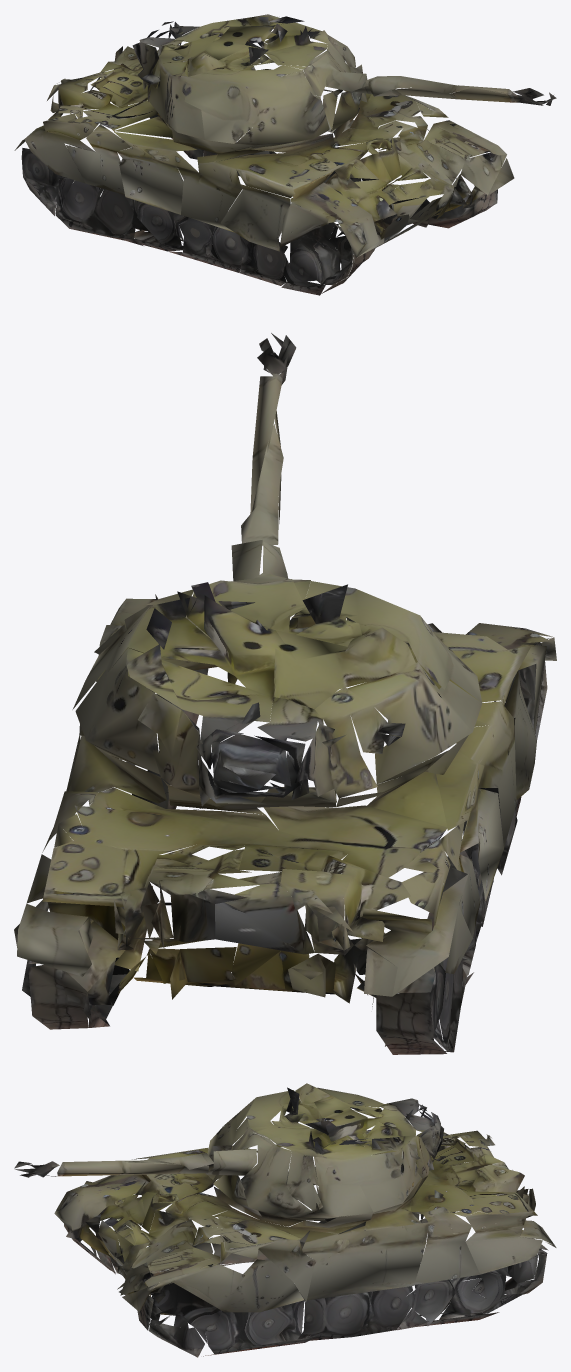
The model's file is tank_lod1.glb.
3 views of the same model, one above another, from view 1: azimuth 30°, elevation 25°; view 2: azimuth 150°, elevation 25°; view 3: azimuth 270°, elevation 25° (orthographic). The views are drawn at different scales.
Visible parts, largest first — view 1: body, turret; view 2: body, turret; view 3: body, turret.
Boxes of the visible parts, bbox=[...] form: body: bbox=[14, 45, 514, 295]; turret: bbox=[132, 14, 556, 154]; body: bbox=[14, 594, 556, 1054]; turret: bbox=[72, 333, 482, 806]; body: bbox=[54, 1127, 556, 1357]; turret: bbox=[14, 1083, 443, 1221].
Bounding box in the file's own units: 5.56 × 3.27 × 7.7.
Materials: 1 (1 with a texture image).
